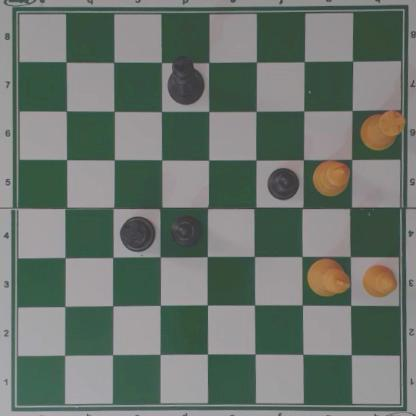black-king: (167, 53, 204, 105)
black-pawn: (267, 166, 301, 201), (169, 214, 204, 248)
black-rook: (119, 216, 157, 253)
white-bishop: (311, 159, 351, 198)
white-king: (305, 259, 350, 297)
white-pawn: (361, 264, 397, 297)
white-rook: (360, 110, 406, 151)
